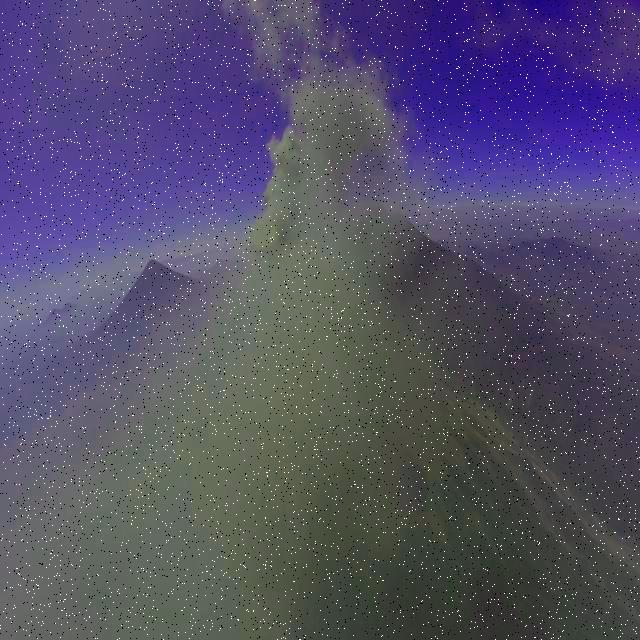Plume: (0, 257, 393, 640), (225, 0, 403, 251)
